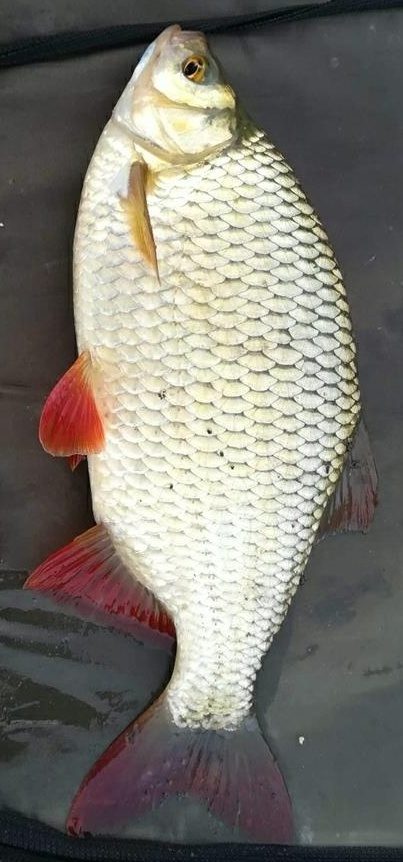Scardinius erythrophthalmus: (20, 20, 383, 862)
